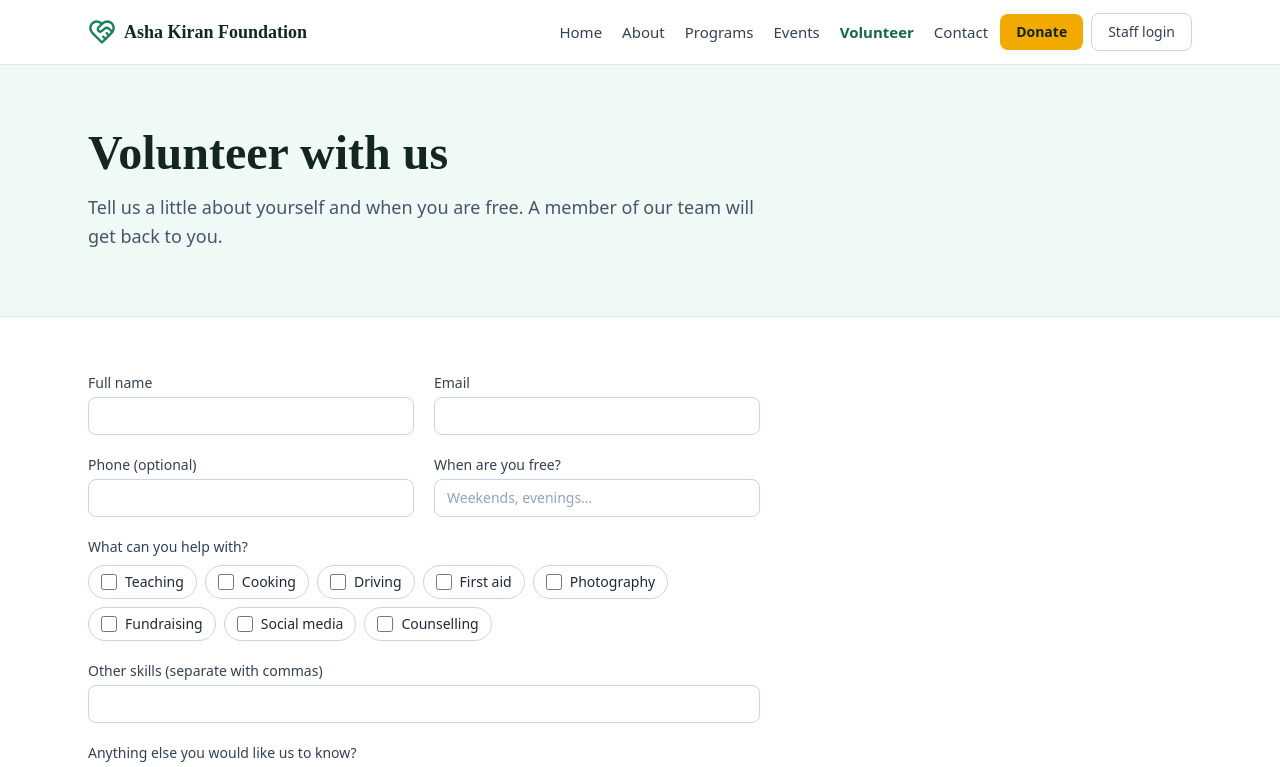
Test: volunteer application form › rejects a bad email and phone
Type "Asha" into the field labelled "Full name" at [251, 416], box top-left (88, 396), bottom-right (414, 434)
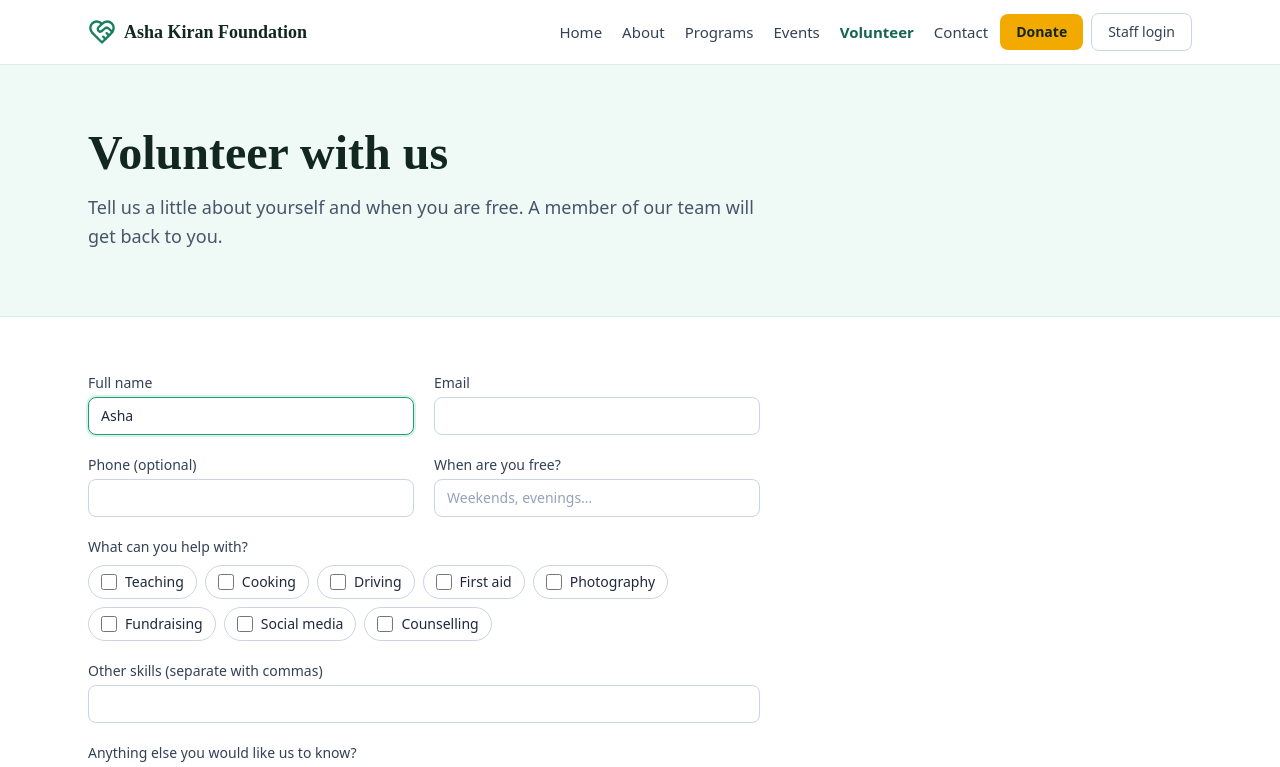
Type "nope" into the field labelled "Email" at [597, 416], box top-left (434, 396), bottom-right (760, 434)
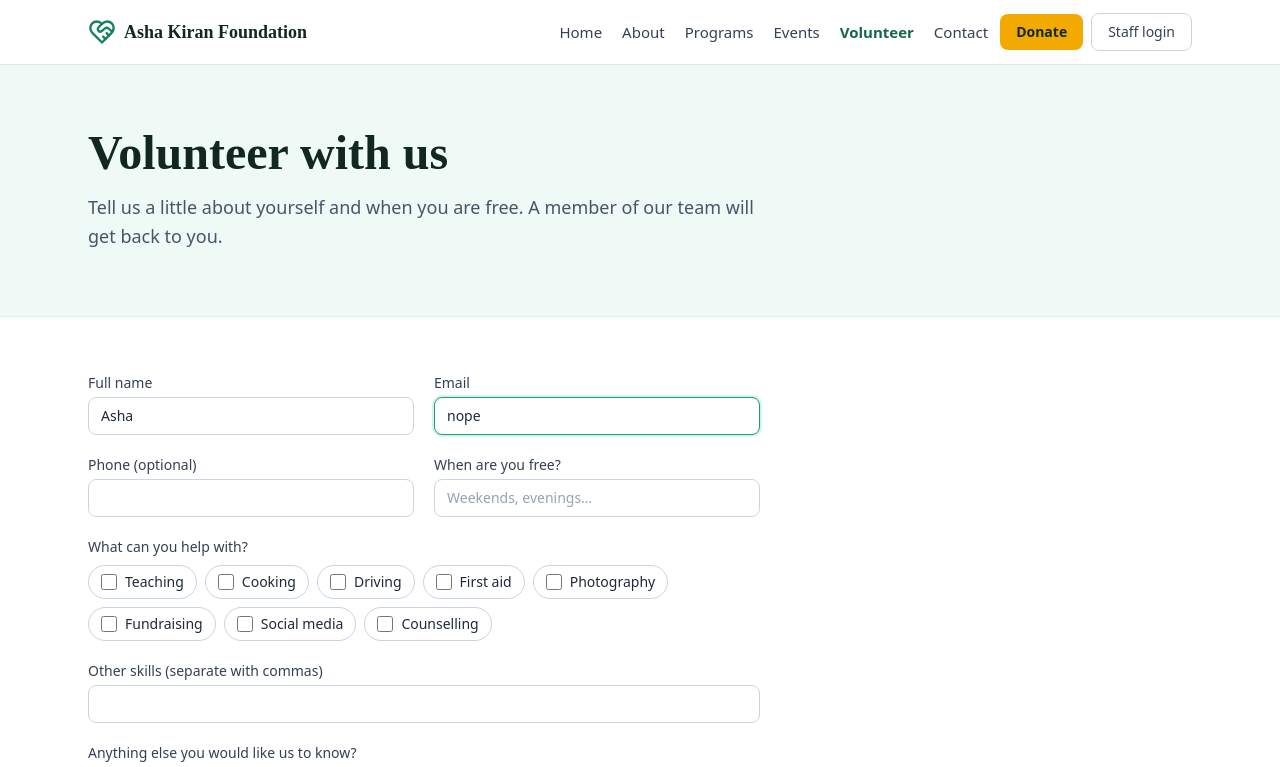
Type "abc" into the field labelled "Phone (optional)" at [251, 498], box top-left (88, 478), bottom-right (414, 516)
(page scrolled)
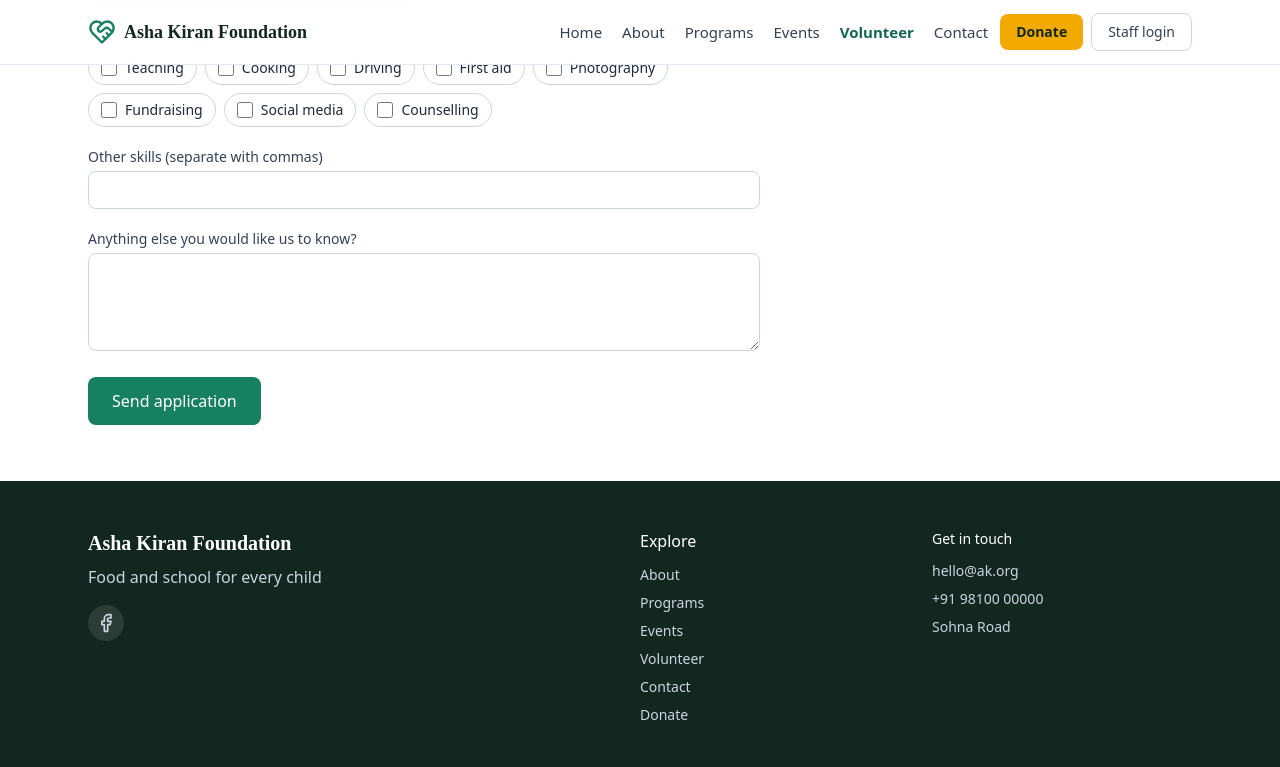
Click the button "Send application" at [174, 400], box top-left (88, 376), bottom-right (261, 424)
(page scrolled)
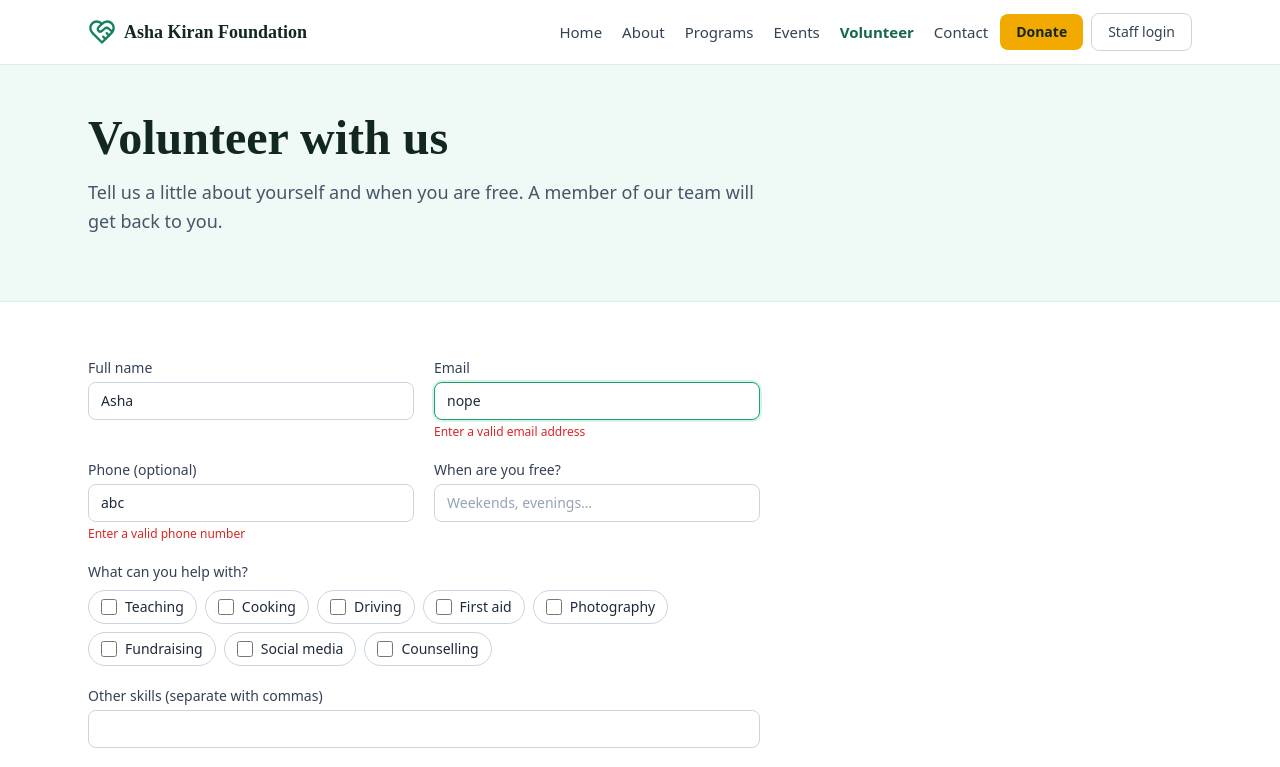
Expected: the text "Enter a valid email address" is shown, top-left (434, 422), bottom-right (585, 440)
Expected: the text "Enter a valid phone number" is shown, top-left (88, 524), bottom-right (245, 542)
